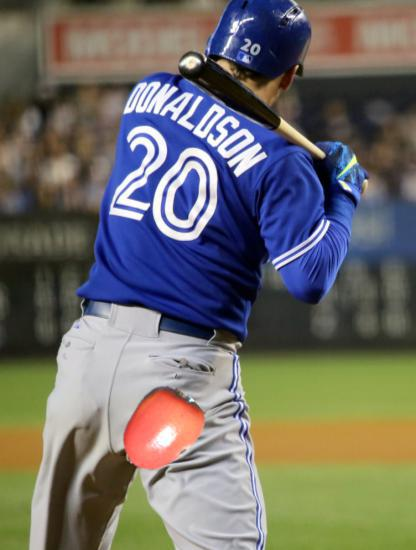Kaki: (115, 384, 205, 474)
